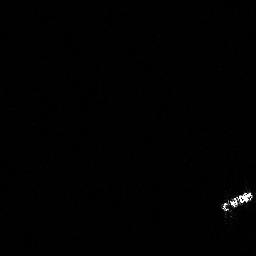ship: (218, 189, 256, 214)
